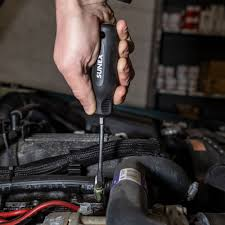Screwdriver: (90, 19, 123, 194)
